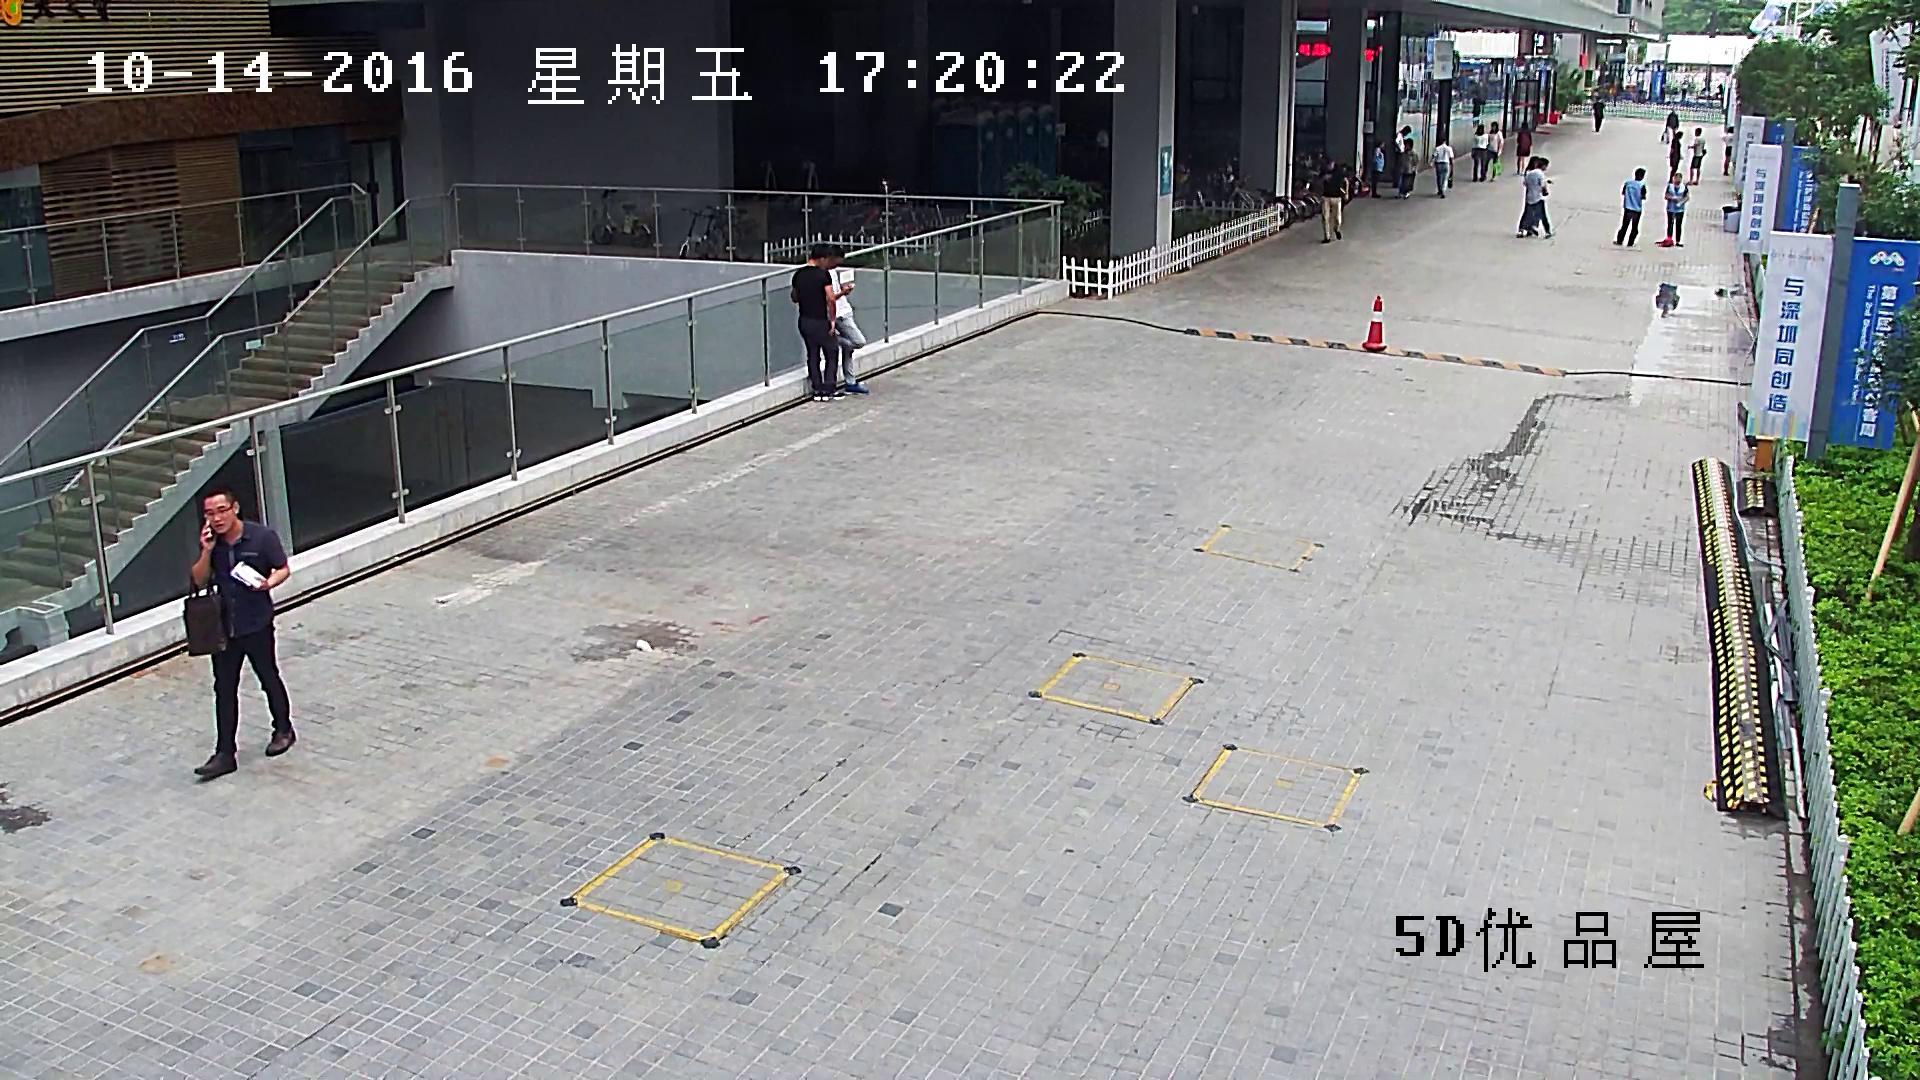person: (183, 485, 297, 773), (789, 242, 846, 400), (824, 244, 867, 393), (1315, 158, 1348, 242), (1654, 172, 1690, 247), (1612, 167, 1646, 246), (1516, 157, 1548, 235), (1524, 155, 1551, 236), (1664, 172, 1689, 246), (1429, 133, 1454, 198), (1397, 137, 1419, 197), (1685, 127, 1706, 185), (1484, 121, 1503, 182), (1394, 125, 1412, 186), (1471, 124, 1488, 182), (1372, 139, 1384, 196), (1516, 121, 1531, 173), (1669, 130, 1683, 182), (1723, 125, 1735, 175), (1661, 108, 1678, 142), (1592, 95, 1605, 131), (1472, 91, 1481, 128)
